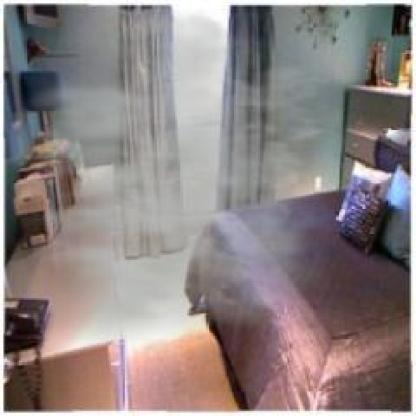Smoke: (9, 9, 364, 357)
